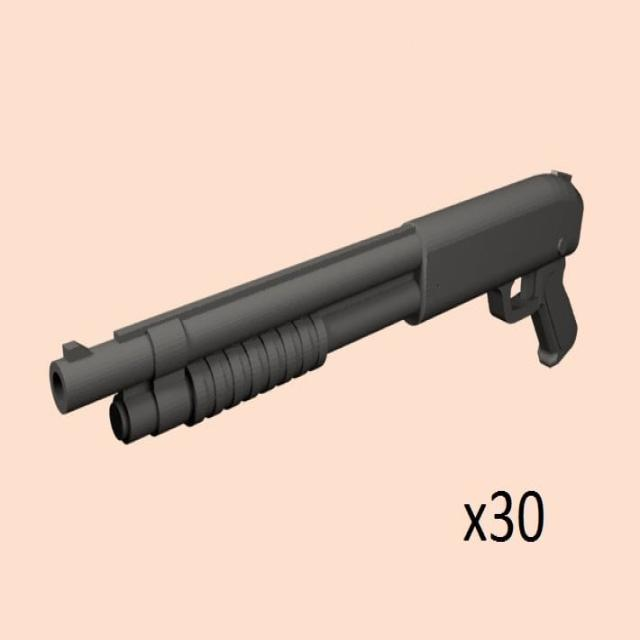ShotGun: (48, 172, 585, 446)
